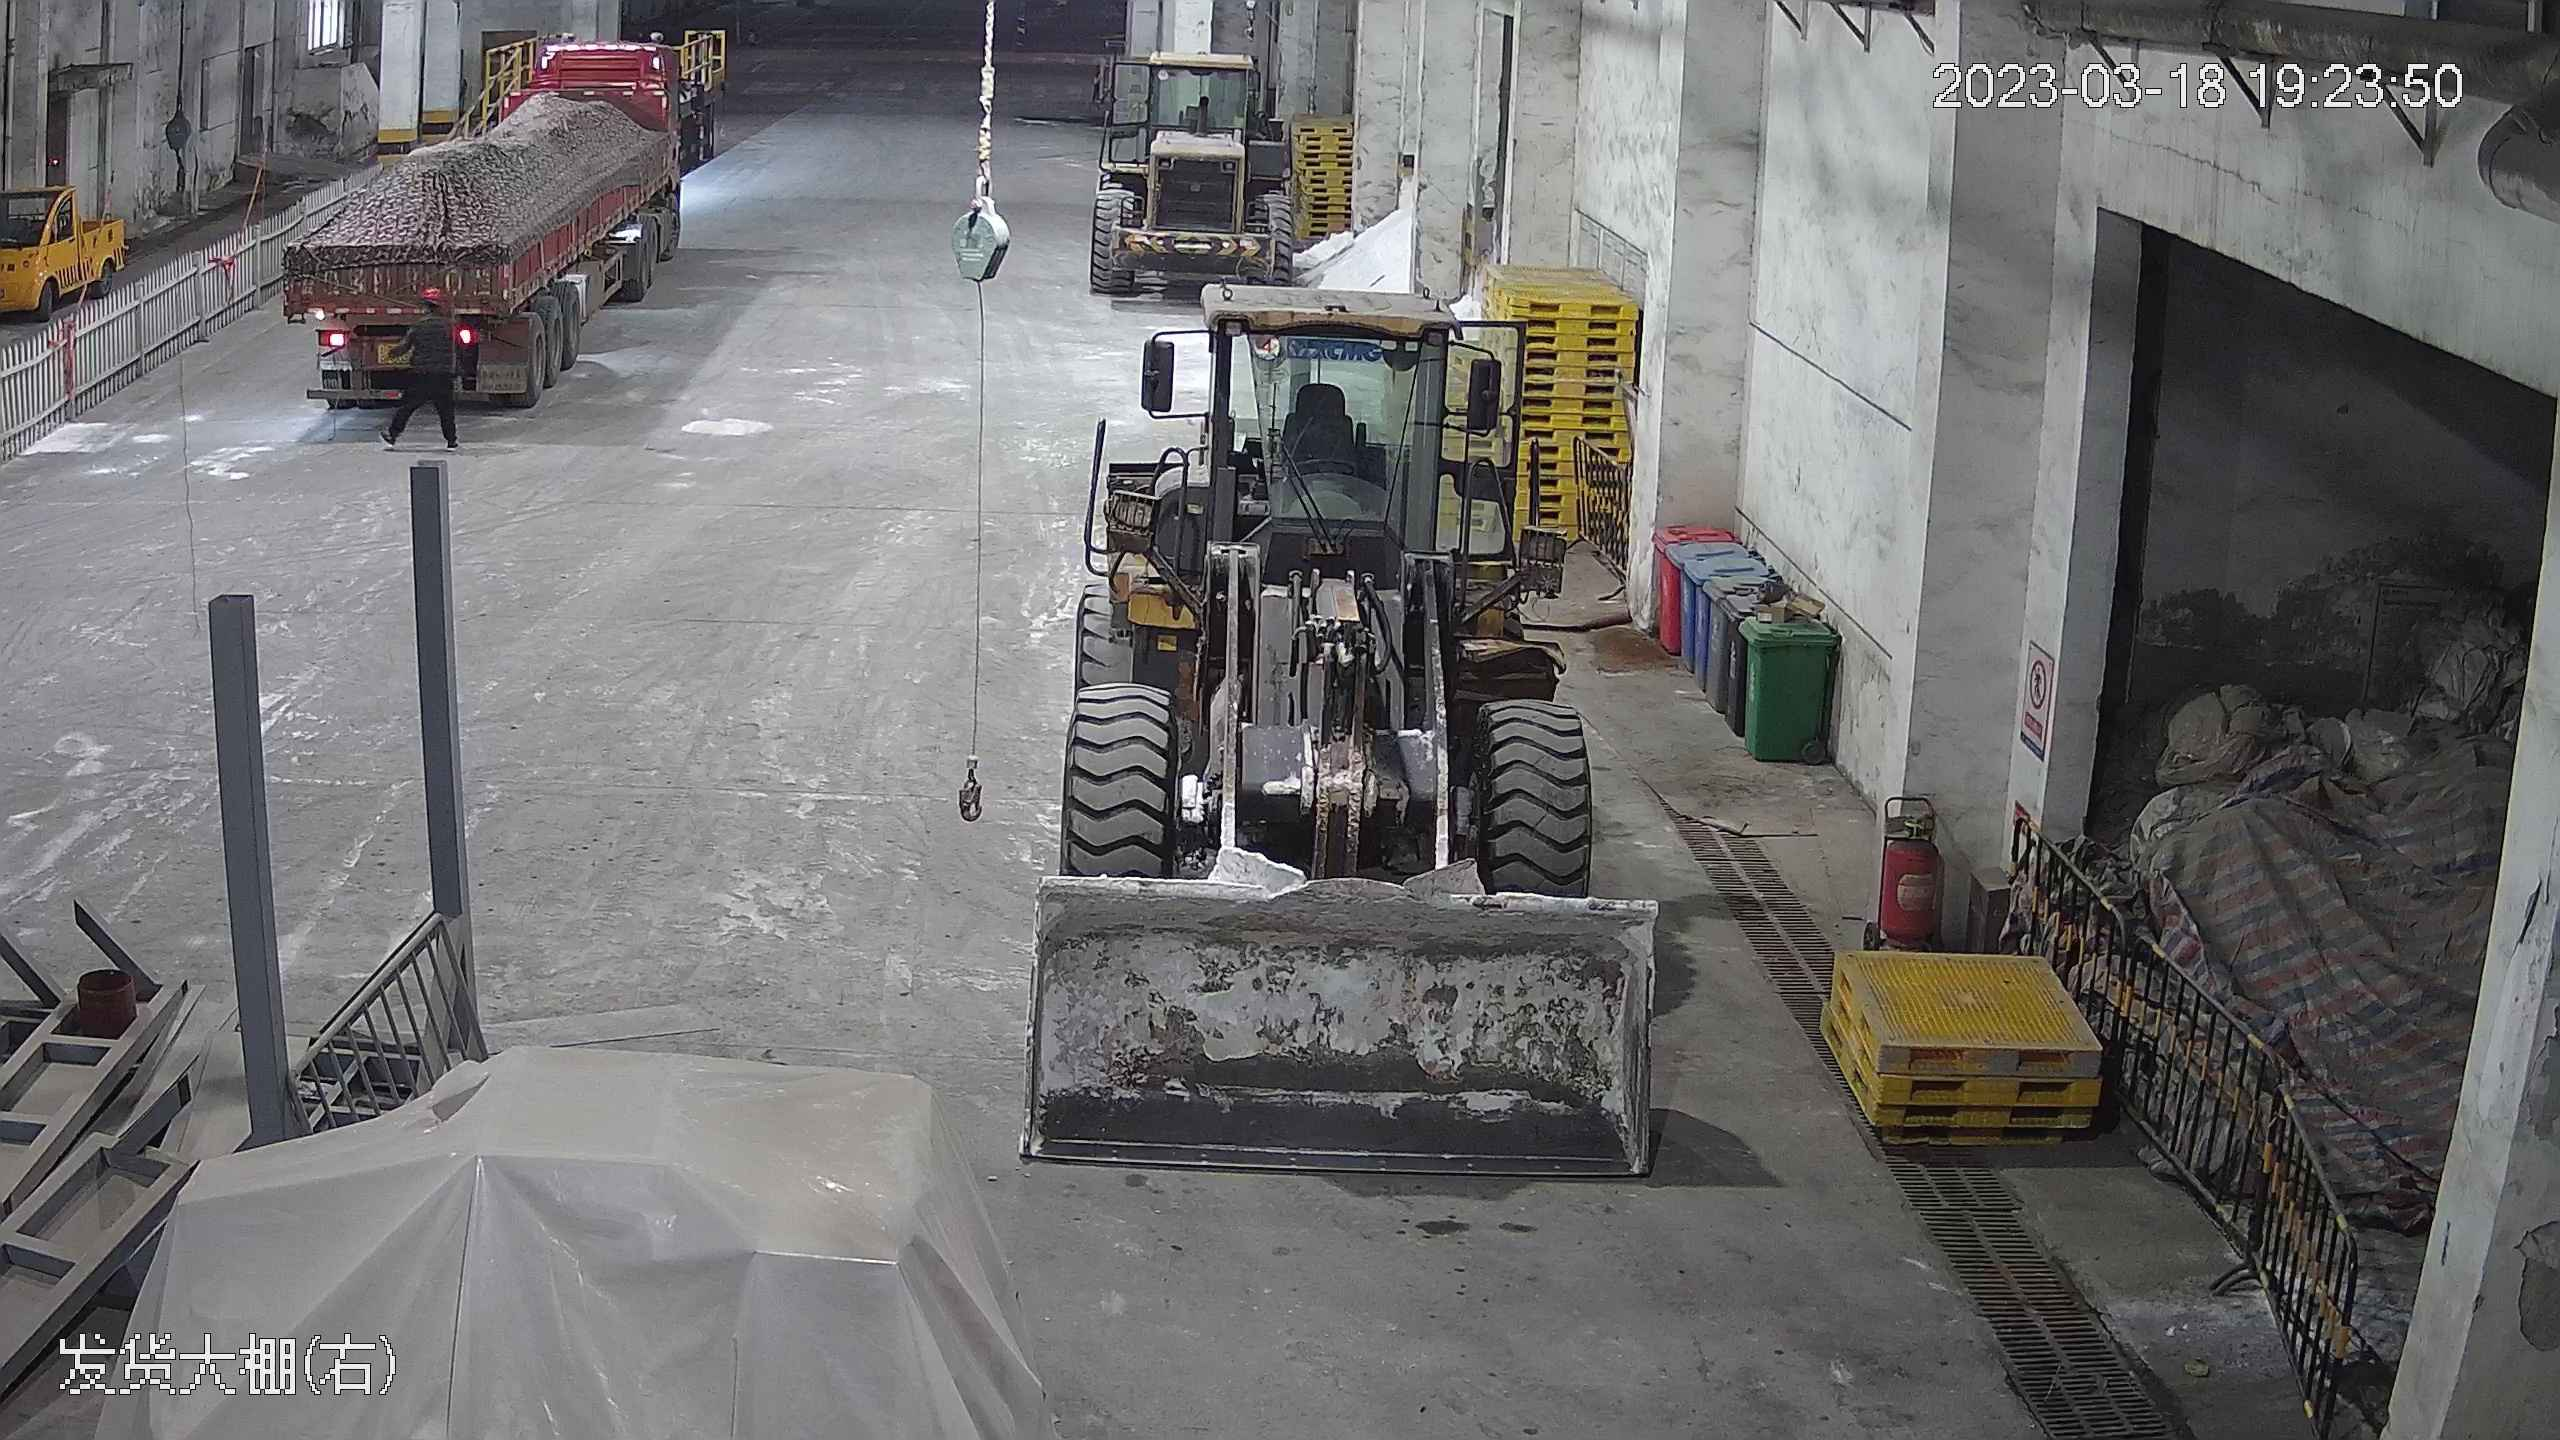head: (407, 286, 456, 341)
helmet: (416, 287, 443, 309)
people: (402, 298, 467, 451)
truck: (235, 12, 711, 439)
